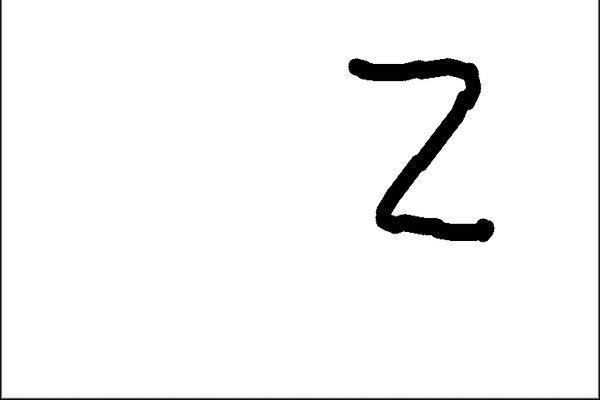Z: (342, 46, 516, 248)
